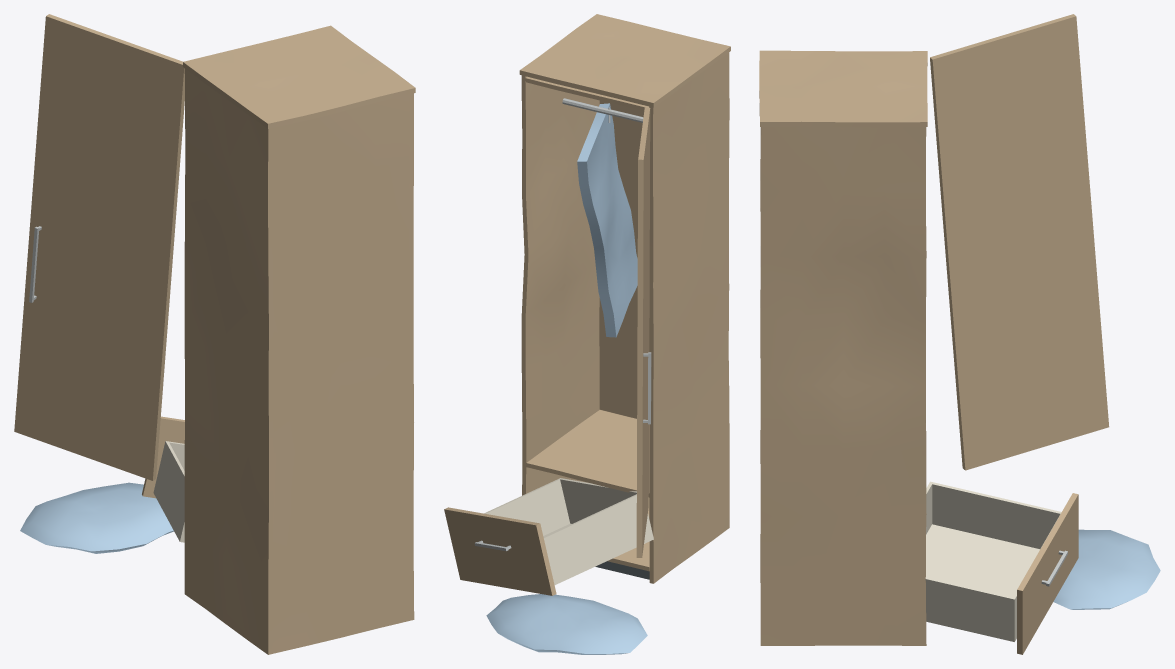
The model's file is wardrobe_broken.fbx.
3 views of the same model, side by side, from view 1: azimuth 30°, elevation 25°; view 2: azimuth 150°, elevation 25°; view 3: azimuth 270°, elevation 25° (orthographic). The views are drawn at different scales.
Visible parts, largest first — view 1: wardrobe_broken, wardrobe_broken_cloth, wardrobe_broken_debris; view 2: wardrobe_broken, wardrobe_broken_debris, wardrobe_broken_cloth; view 3: wardrobe_broken, wardrobe_broken_debris, wardrobe_broken_cloth.
Boxes of the visible parts, box(x1,y1,x2,y2) form: wardrobe_broken: box(14, 14, 415, 654); wardrobe_broken_cloth: box(20, 482, 173, 553); wardrobe_broken_debris: box(142, 416, 184, 542); wardrobe_broken: box(519, 14, 730, 583); wardrobe_broken_debris: box(444, 478, 653, 595); wardrobe_broken_cloth: box(486, 103, 647, 654); wardrobe_broken: box(759, 14, 1109, 645); wardrobe_broken_debris: box(925, 481, 1078, 654); wardrobe_broken_cloth: box(1053, 529, 1160, 609).
Size of the model in its own units: 108 by 213 by 146.
